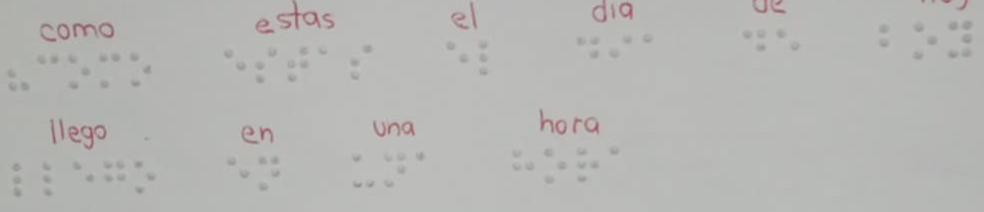a: (605, 138, 628, 193), (311, 35, 338, 72), (636, 27, 662, 61), (412, 139, 430, 188)
b: (870, 8, 898, 63)
c: (32, 49, 61, 90)
d: (737, 15, 771, 64), (572, 24, 605, 69)
e: (771, 18, 813, 64), (441, 35, 475, 84), (67, 149, 97, 204), (221, 38, 249, 86), (224, 145, 250, 191)
g: (102, 149, 127, 200)
h: (506, 137, 540, 192)
i: (609, 28, 635, 65)
l: (32, 148, 60, 205), (6, 151, 32, 207), (469, 33, 497, 84)
m: (93, 49, 122, 92)
n: (384, 141, 410, 194), (256, 149, 285, 194)
o: (903, 12, 944, 69), (132, 150, 162, 204), (540, 144, 569, 195), (65, 49, 94, 95), (124, 49, 154, 93)
r: (571, 142, 603, 192)
s: (345, 34, 380, 90), (251, 39, 280, 89)
t: (283, 39, 313, 89)
u: (345, 147, 377, 195)
y: (945, 16, 976, 66)
